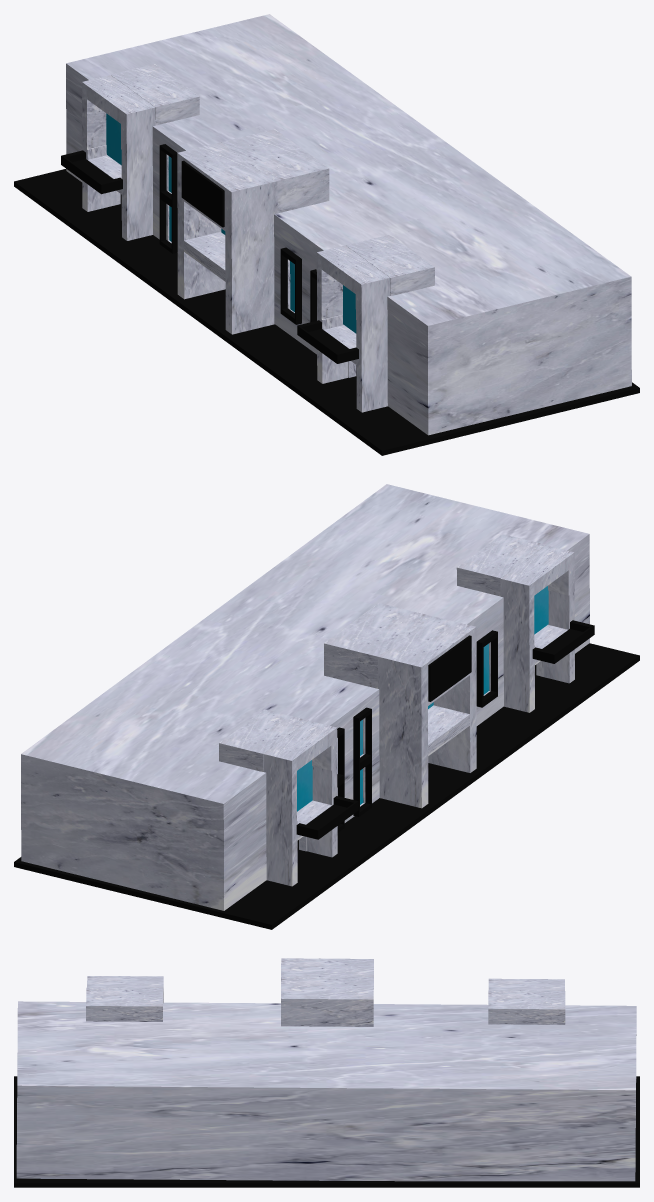
File: entrada.obj
The picture shows the model from 3 angles, top to bottom: view 1: azimuth 30°, elevation 25°; view 2: azimuth 150°, elevation 25°; view 3: azimuth 270°, elevation 25°; orthographic projection. The views are drawn at different scales.
Visible parts, largest first — view 1: fachada3:pCube2, pCube3, pCube2, pasted__polySurface2 group12, polySurface2, polySurface1, pasted__pasted__polySurface1 pasted__group8 group9, pasted__pasted__pasted__polySurface1 pasted__pasted__group8 past, pasted__pCube1 group2; view 2: fachada3:pCube2, pCube3, pCube2, pasted__polySurface2 group12, polySurface2, pasted__polySurface1 group7, pasted__polySurface1 group8, pasted__pasted__polySurface1 pasted__group8 group10, pasted__pCube1 group2; view 3: fachada3:pCube2, pCube3.
Part boxes in pixels (x1=…): fachada3:pCube2: x1=66, y1=14, x2=631, y2=435; pCube3: x1=14, y1=169, x2=639, y2=455; pCube2: x1=181, y1=160, x2=224, y2=227; pasted__polySurface2 group12: x1=61, y1=150, x2=122, y2=194; polySurface2: x1=297, y1=320, x2=358, y2=363; polySurface1: x1=280, y1=247, x2=301, y2=324; pasted__pasted__polySurface1 pasted__group8 group9: x1=159, y1=144, x2=177, y2=204; pasted__pasted__pasted__polySurface1 pasted__pasted__group8 past: x1=159, y1=195, x2=177, y2=253; pasted__pCube1 group2: x1=106, y1=113, x2=121, y2=165; fachada3:pCube2: x1=21, y1=484, x2=589, y2=910; pCube3: x1=14, y1=643, x2=639, y2=929; pCube2: x1=428, y1=635, x2=471, y2=701; pasted__polySurface2 group12: x1=296, y1=796, x2=358, y2=839; polySurface2: x1=532, y1=620, x2=594, y2=663; pasted__polySurface1 group7: x1=476, y1=630, x2=497, y2=707; pasted__polySurface1 group8: x1=353, y1=707, x2=371, y2=767; pasted__pasted__polySurface1 pasted__group8 group10: x1=353, y1=758, x2=371, y2=816; pasted__pCube1 group2: x1=297, y1=760, x2=312, y2=811; fachada3:pCube2: x1=16, y1=958, x2=636, y2=1181; pCube3: x1=14, y1=1076, x2=639, y2=1187.
Size of the model in its own units: 17.24 by 9.39 by 42.62.
17 materials, 17 textured.
